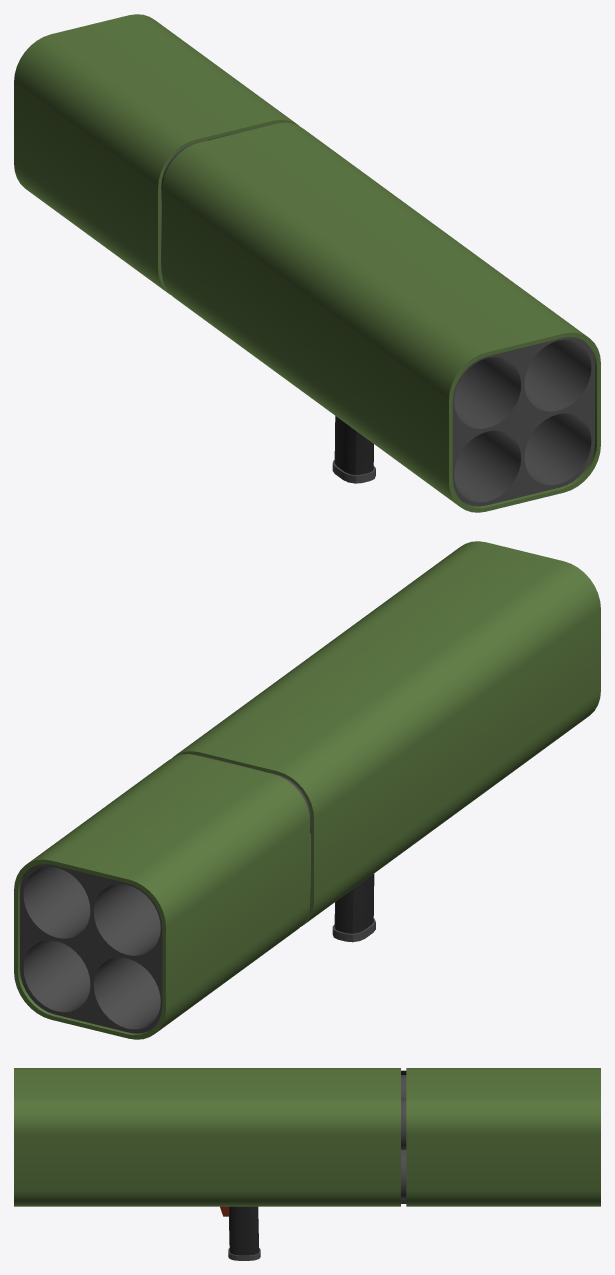
File: Multishot.glb
3 views of the same model, one above another, from view 1: azimuth 30°, elevation 25°; view 2: azimuth 150°, elevation 25°; view 3: azimuth 270°, elevation 25° (orthographic). The views are drawn at different scales.
Parts seen in each view (by area): view 1: Cylinder.006; view 2: Cylinder.006; view 3: Cylinder.006.
Boxes of the visible parts, x1,y1,x2,y2 form: Cylinder.006: (14, 14, 600, 512); Cylinder.006: (14, 541, 600, 1039); Cylinder.006: (14, 1068, 600, 1260).
Bounding box in the file's own units: 0.8436 × 1.35 × 4.18.
